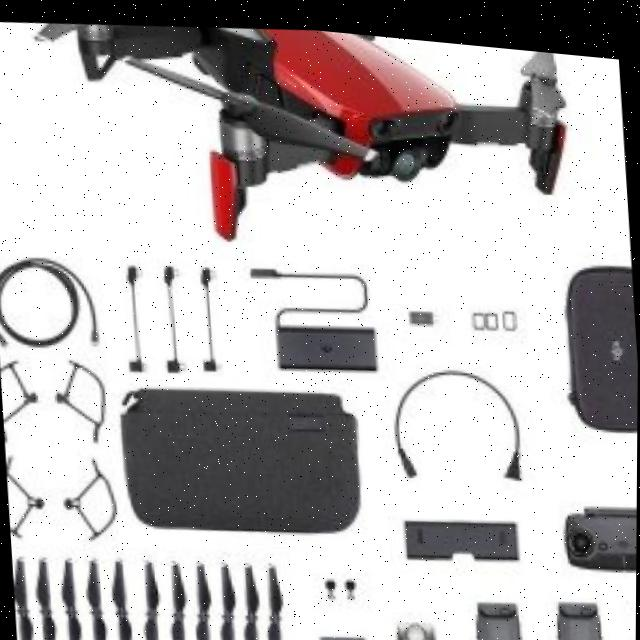drones: (1, 0, 621, 290)
